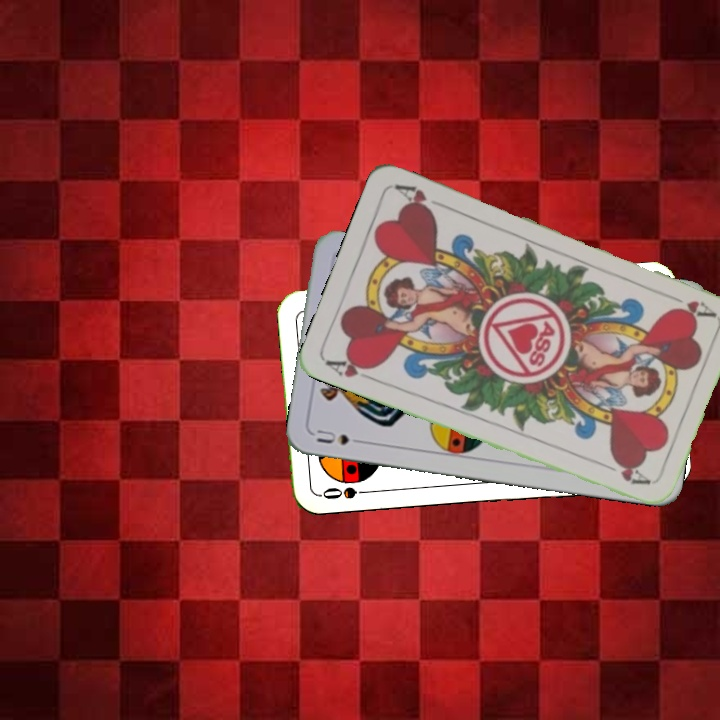HA: (322, 353, 379, 384), (661, 288, 716, 320)
SO: (316, 482, 375, 502)
SU: (313, 425, 369, 447)
